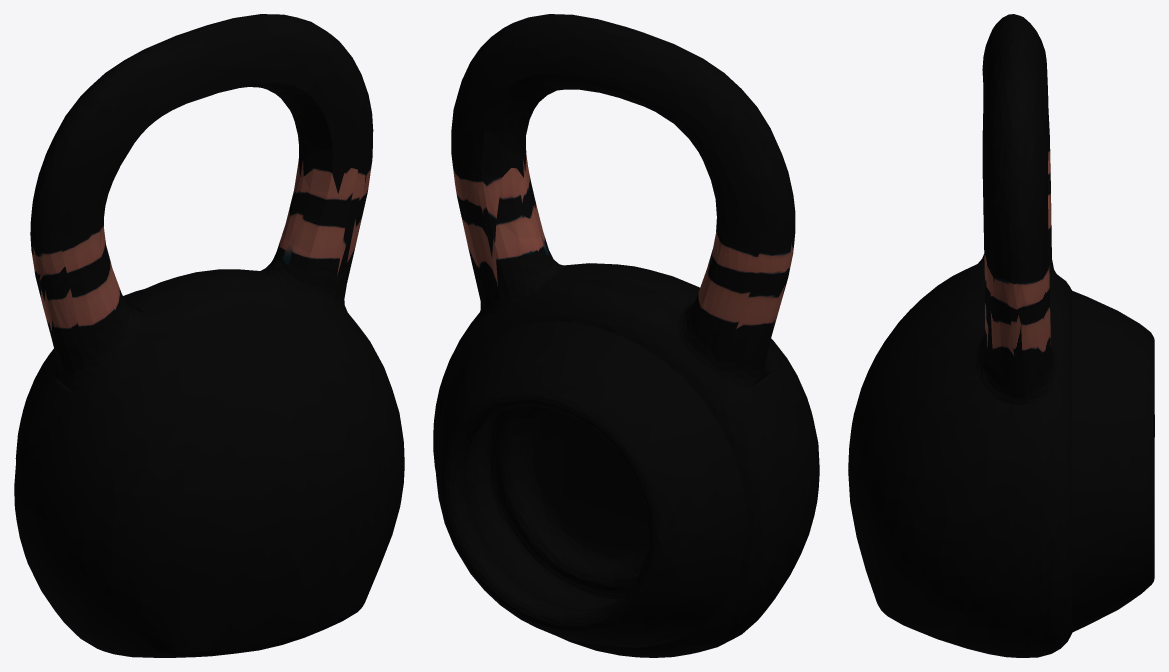
Rendered from kettlebell.glb.
3 views of the same model, side by side, from view 1: azimuth 30°, elevation 25°; view 2: azimuth 150°, elevation 25°; view 3: azimuth 270°, elevation 25° (orthographic). The views are drawn at different scales.
Visible parts, largest first — view 1: kettlebell; view 2: kettlebell; view 3: kettlebell.
Boxes of the visible parts, left/top/right/bottom form: kettlebell: left=14, top=14, right=404, bottom=657; kettlebell: left=433, top=14, right=819, bottom=657; kettlebell: left=848, top=14, right=1154, bottom=657.
Bounding box in the file's own units: 0.1779 × 0.3 × 0.1401.
Materials: 1 (1 with a texture image).
